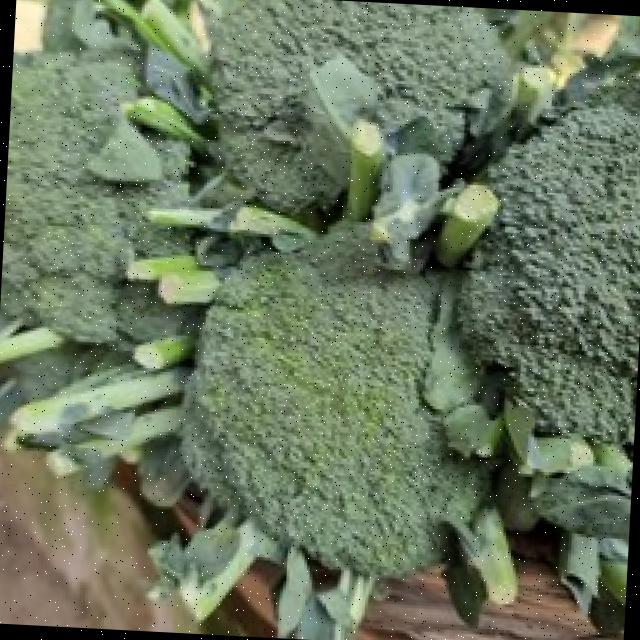Broccoli: (183, 223, 491, 576), (182, 224, 490, 576), (212, 0, 512, 220), (212, 0, 511, 219), (459, 106, 640, 442), (459, 106, 640, 442), (0, 52, 188, 343), (0, 52, 187, 343)
